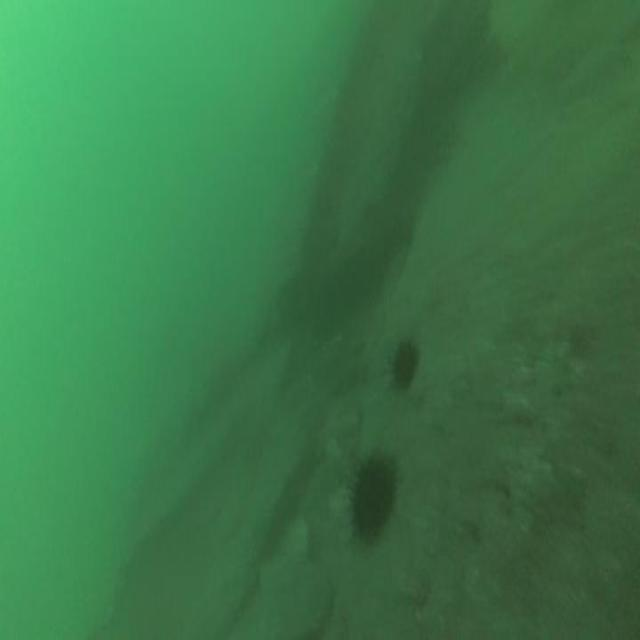echinus: (352, 460, 394, 539), (392, 340, 416, 384)
